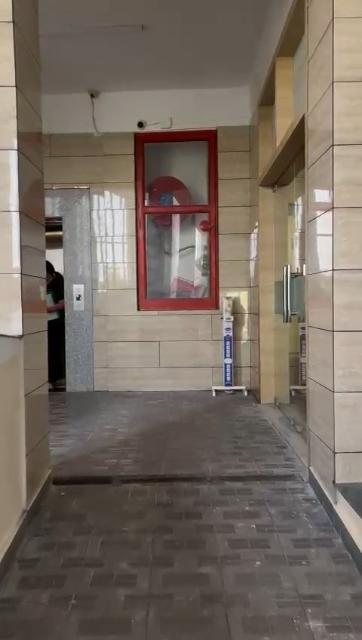door: (278, 183, 306, 401)
floor: (6, 403, 359, 640)
moving-obj: (48, 244, 86, 404)
wall: (306, 14, 361, 486), (1, 6, 43, 528), (90, 138, 140, 394), (226, 126, 260, 292), (143, 312, 217, 388)
